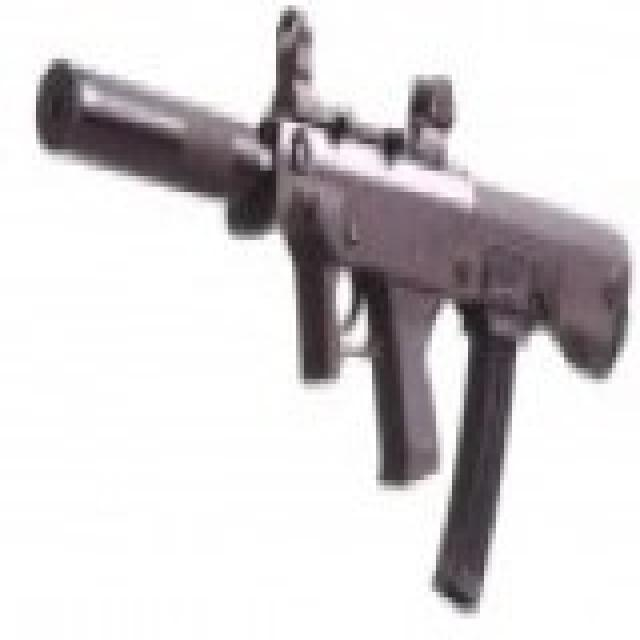Gun: (17, 0, 634, 629)
